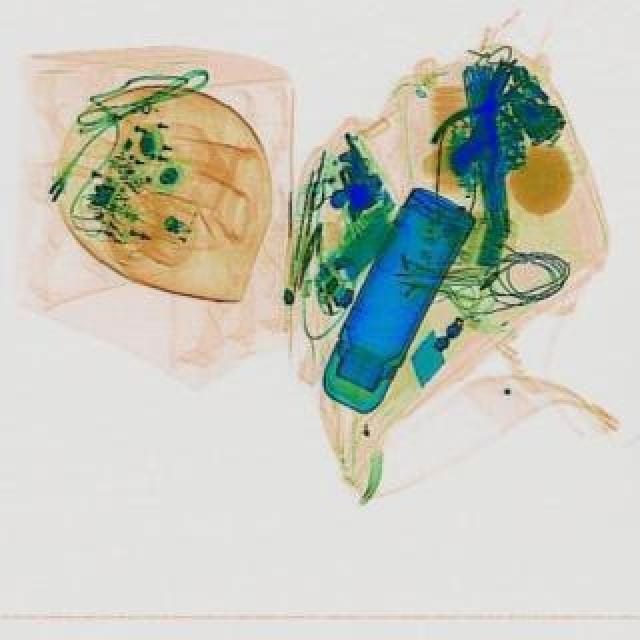wrench: (422, 58, 554, 196)
